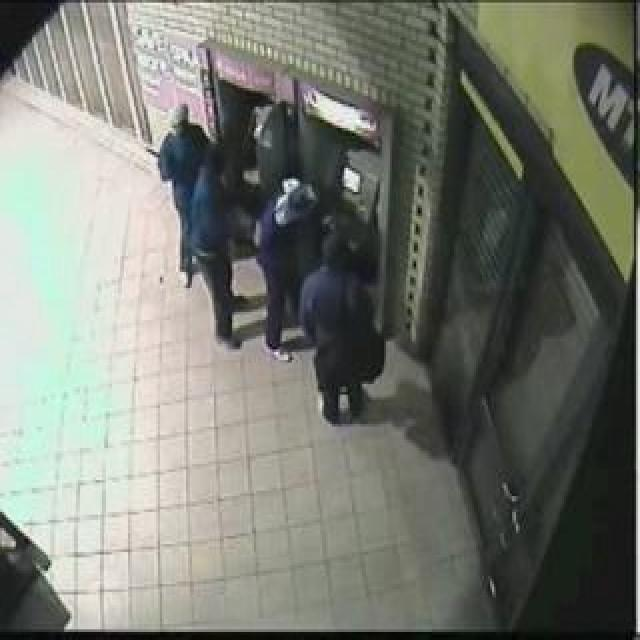thief: (154, 111, 370, 296)
